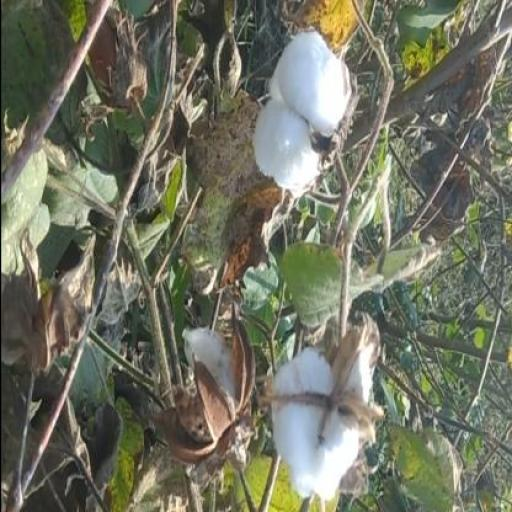cotton_ready: (246, 312, 389, 494), (228, 33, 366, 219)
